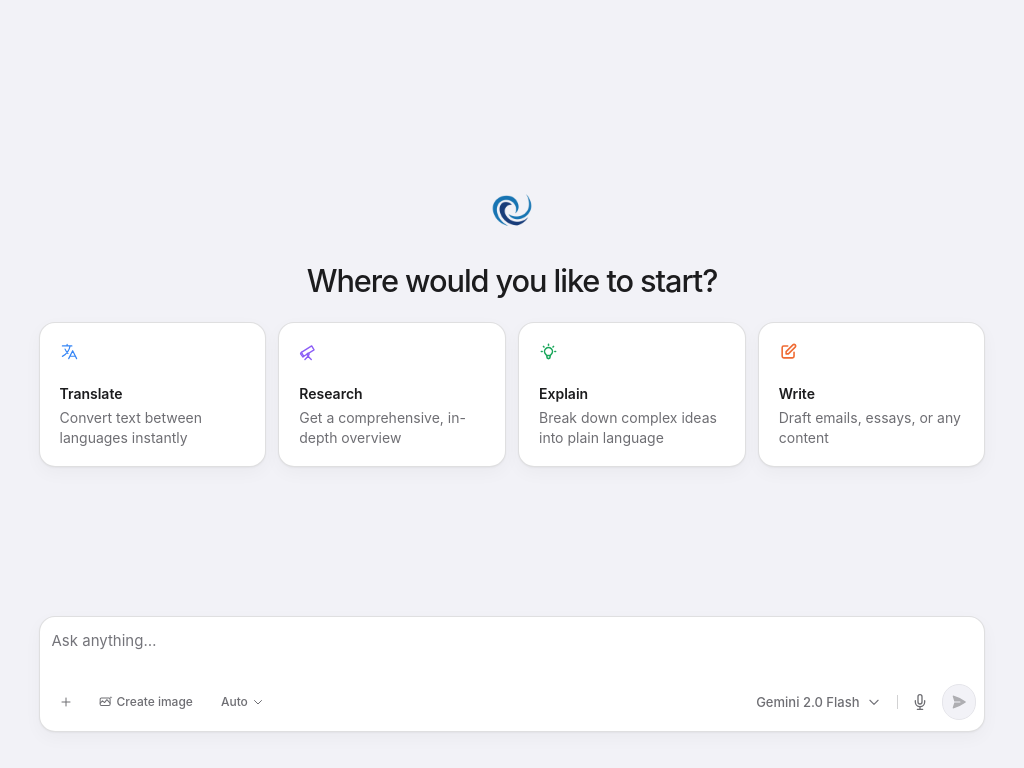
ChatPage › shows stream errors and stops loading
Type "Hello" into the text box with placeholder "Ask anything…" at (512, 651), box [52, 627, 972, 675]
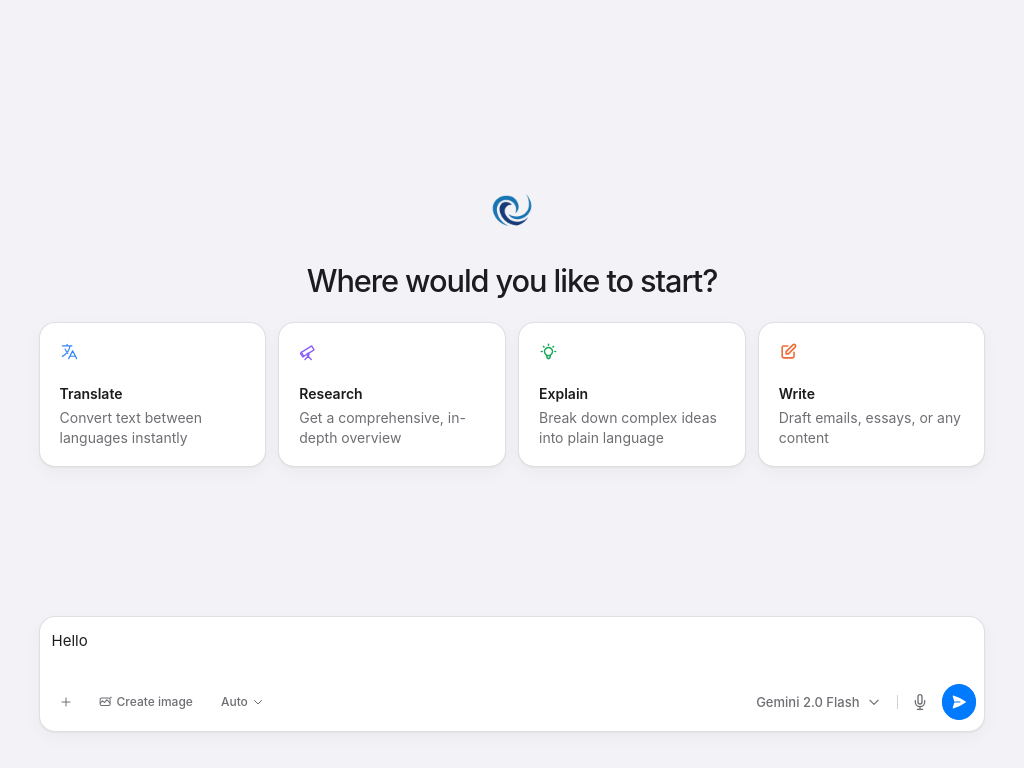
Press Enter in the text box with placeholder "Ask anything…", box [52, 627, 972, 675]
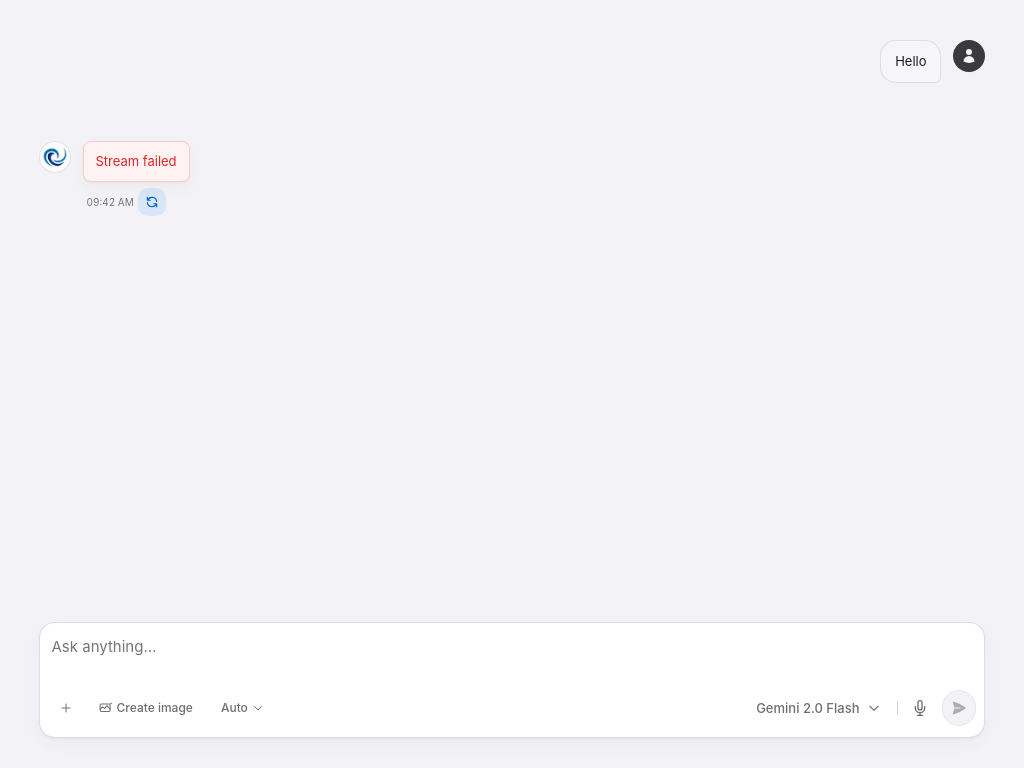
Now the text "Stream failed" is shown, box [82, 141, 190, 182]
